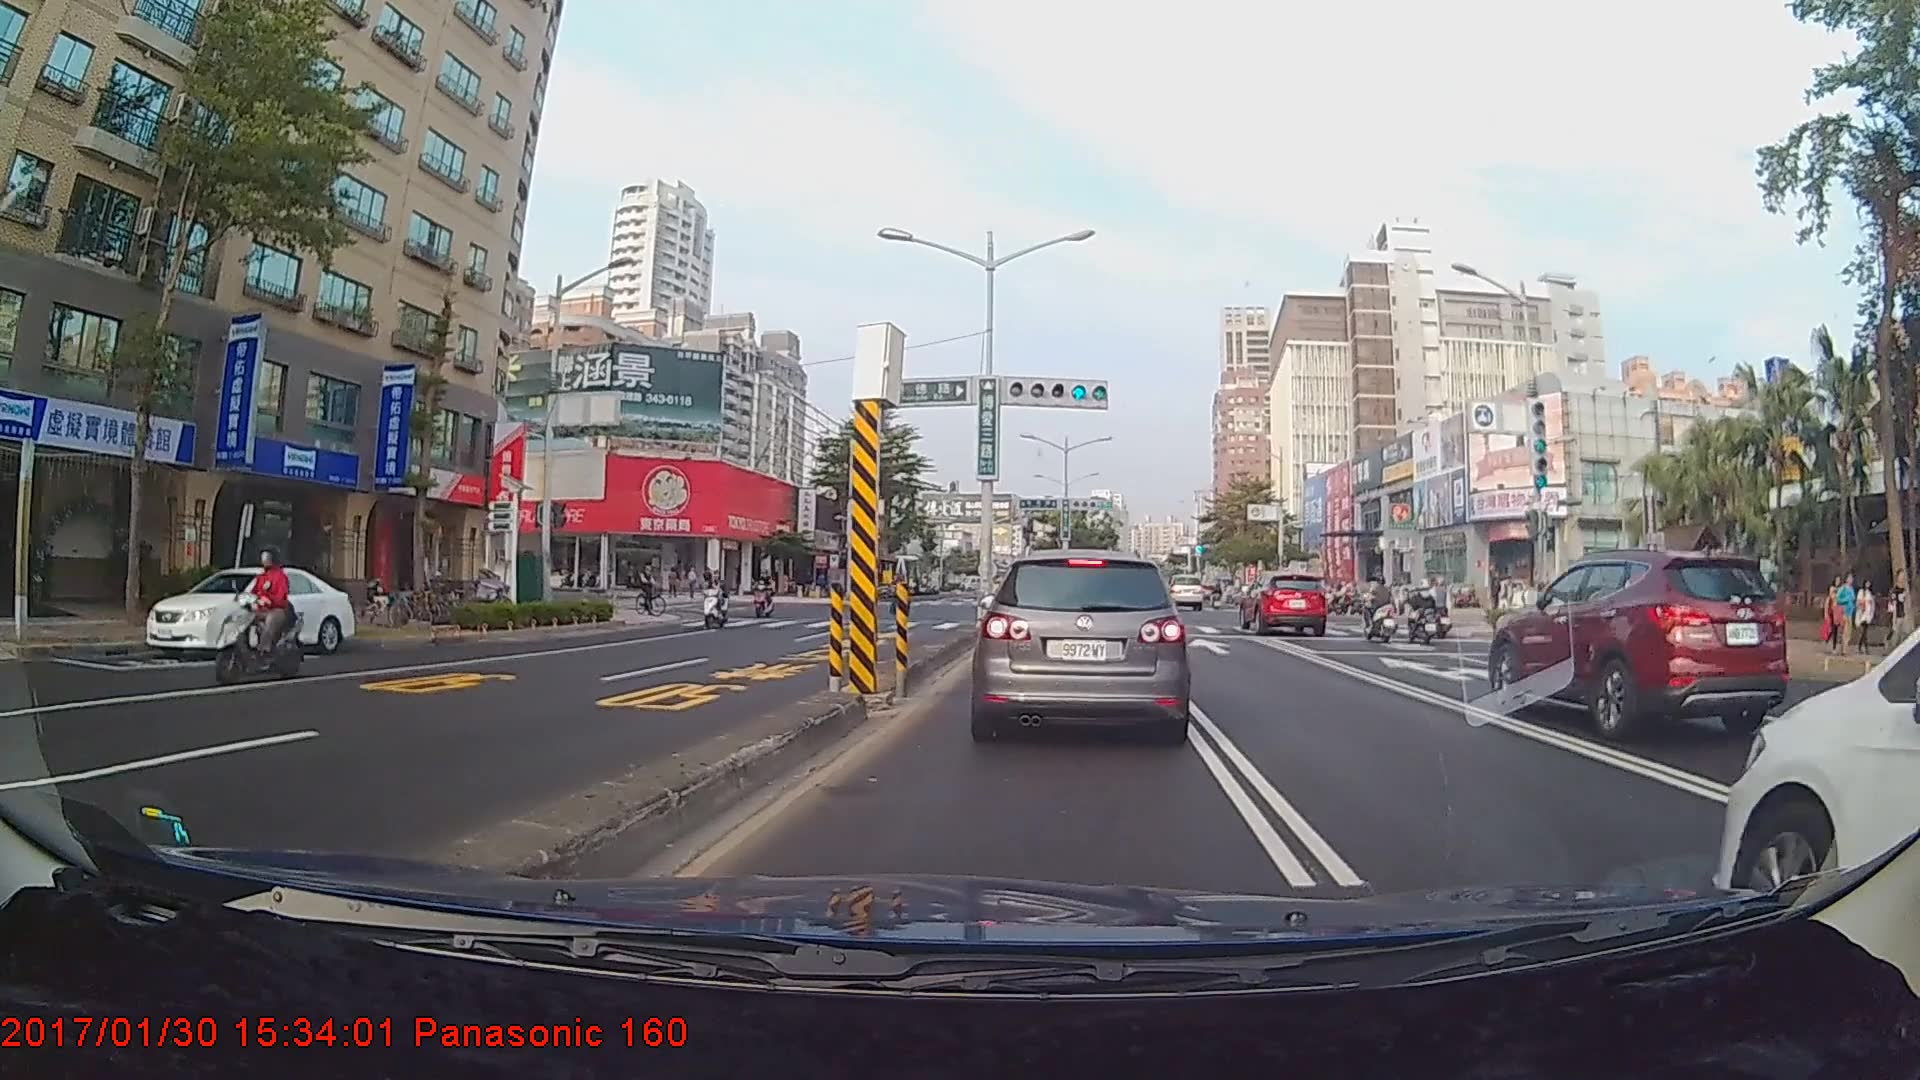pedestrian: (1831, 574, 1857, 661), (1824, 576, 1850, 657), (1854, 579, 1878, 650)
rider: (209, 545, 309, 689), (1351, 577, 1406, 648), (1399, 581, 1448, 646), (632, 561, 672, 624), (700, 569, 737, 634), (755, 568, 783, 622)
vehicle: (1488, 550, 1797, 739), (974, 546, 1191, 741), (144, 562, 352, 658), (1240, 571, 1329, 635), (1166, 572, 1204, 610)
